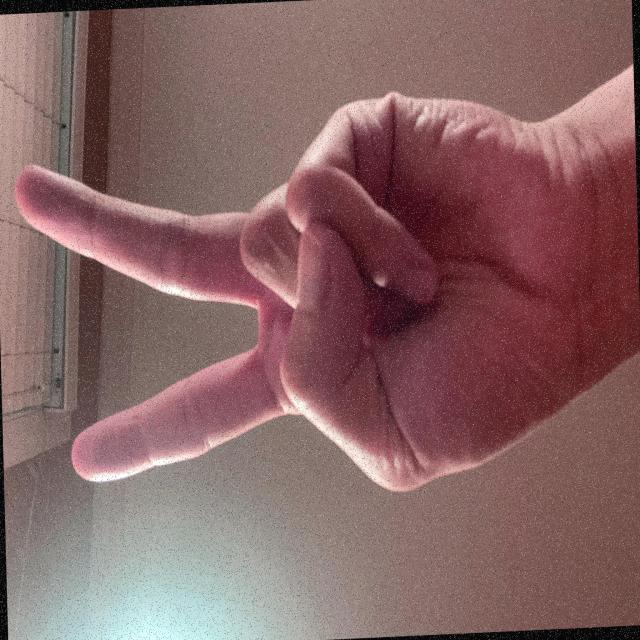V: (87, 10, 427, 640)
